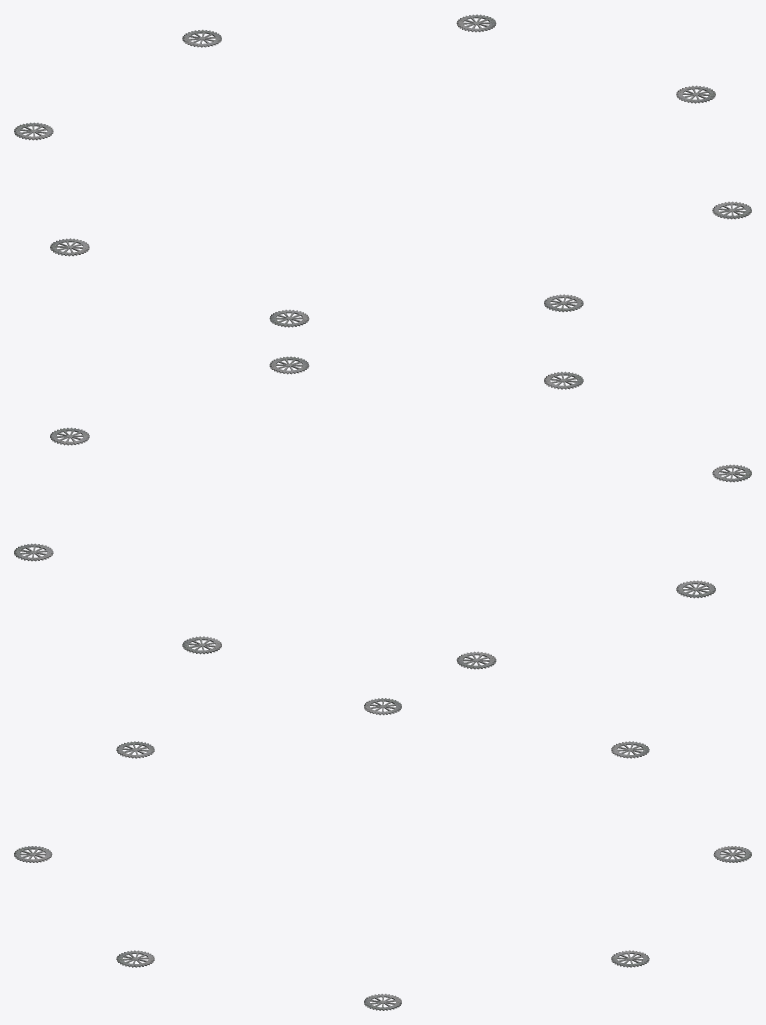
3 renders of one model, top to bottom at view 1: azimuth 30°, elevation 25°; view 2: azimuth 150°, elevation 25°; view 3: azimuth 270°, elevation 25°, orthographic. The views are drawn at different scales.
Visible parts, largest first — view 1: 14_HZ_O; view 2: 14_HZ_O; view 3: 14_HZ_O.
Boxes of the visible parts, bbox=[...] form: 14_HZ_O: bbox=[14, 14, 751, 327]; 14_HZ_O: bbox=[14, 356, 751, 669]; 14_HZ_O: bbox=[14, 698, 751, 1010].
Bounding box in the file's own units: 12292 × 20 × 12292.
